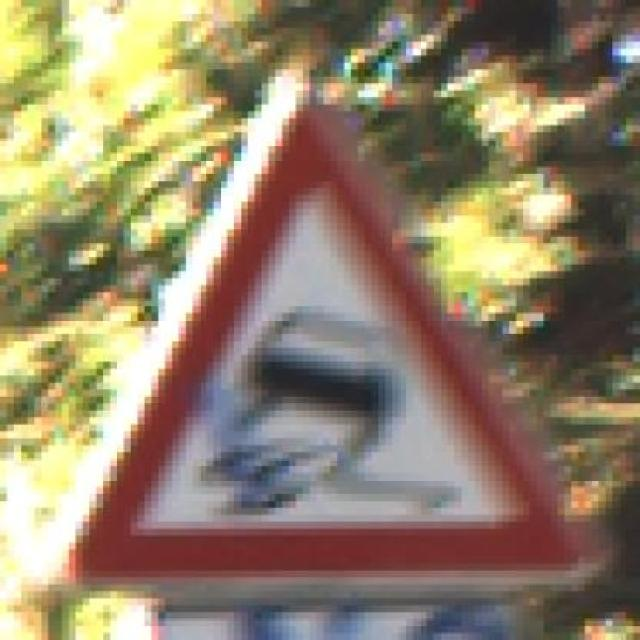Slippery Road Ahead: (54, 63, 592, 599)
